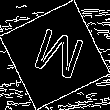M_S: (25, 23, 85, 87)
